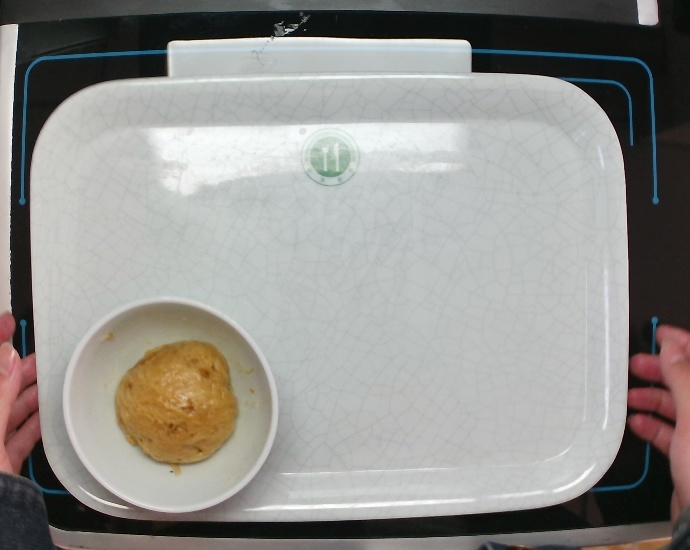JYsf-Fan_Wan: (52, 294, 283, 517)
